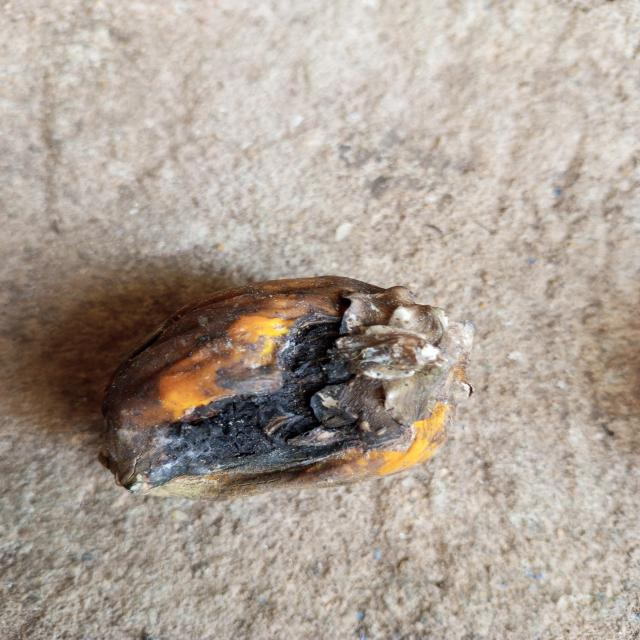damaged: (99, 276, 474, 500)
